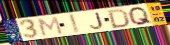3: (20, 18, 39, 40)
D: (108, 8, 131, 30)
I: (68, 13, 81, 34)
J: (90, 11, 105, 30)
M: (37, 16, 65, 37)
Q: (127, 6, 155, 26)
